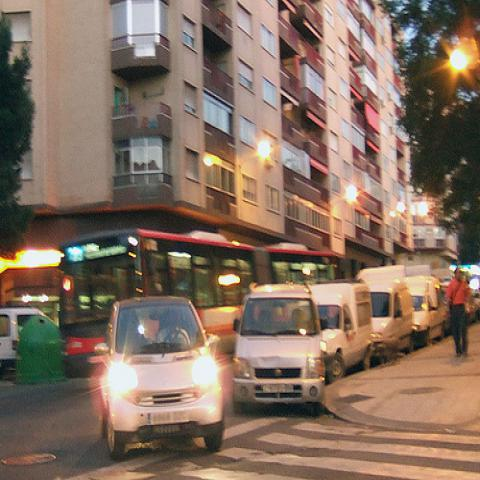bus: (59, 234, 351, 381)
car: (93, 296, 226, 464), (235, 282, 330, 416), (317, 296, 367, 383), (364, 275, 416, 355), (1, 306, 56, 377), (411, 294, 446, 344), (473, 291, 479, 321)
truck: (312, 282, 373, 383)
